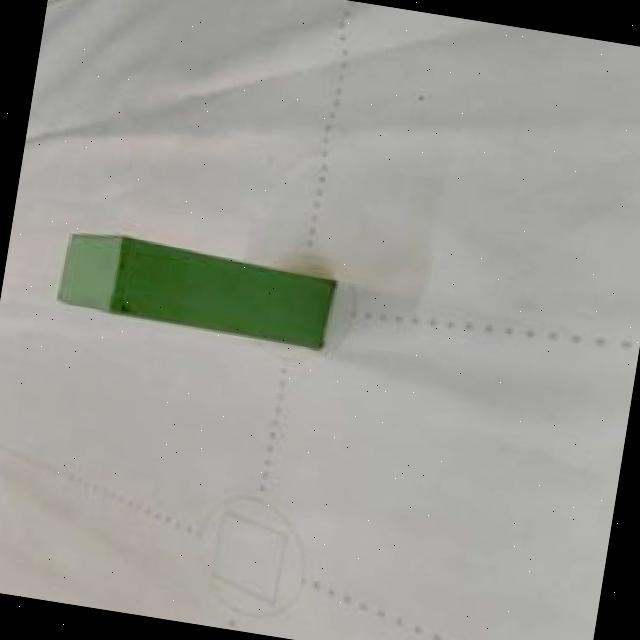greenbox: (50, 222, 340, 349)
